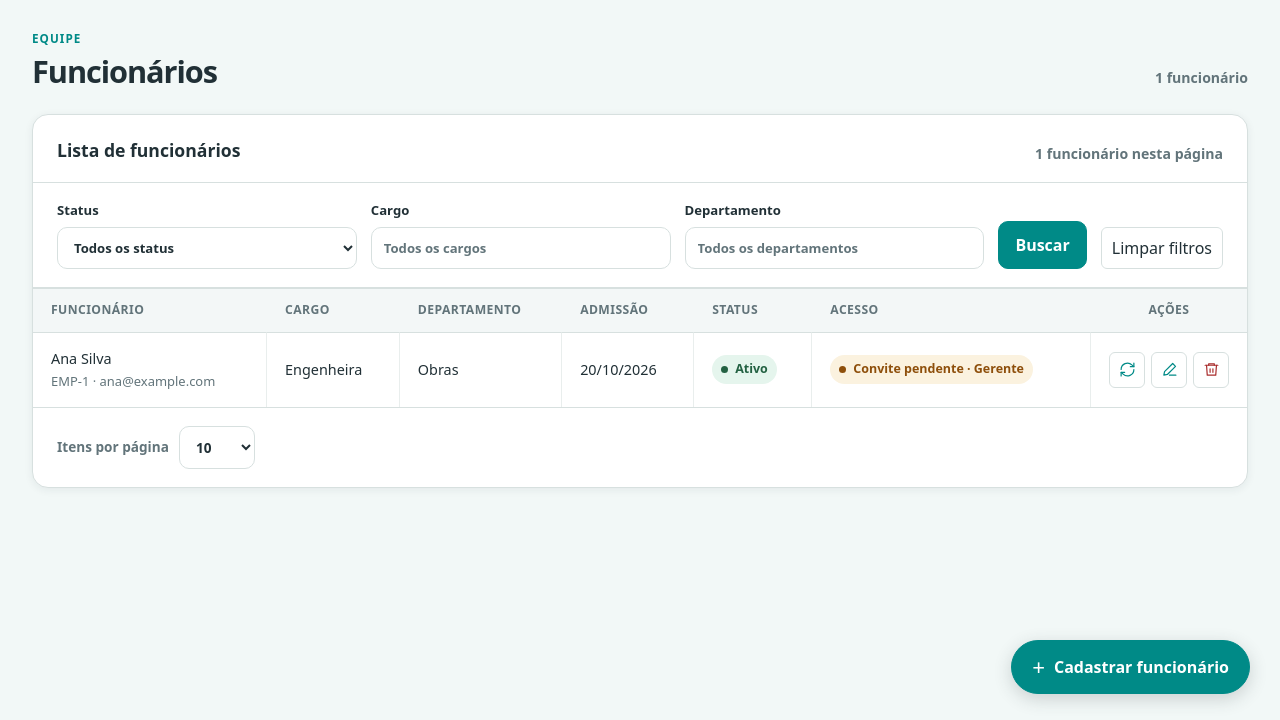
it: EmployeeListPage access › shows access with role and refreshes after resending a pending invitation
This screenshot has width=1280, height=720.
Expected: the text "Convite pendente · Gerente" is shown, [830,355,1033,384]
Click the button named "Reenviar convite para Ana Silva" at [1127, 370], box [1109,352,1145,388]
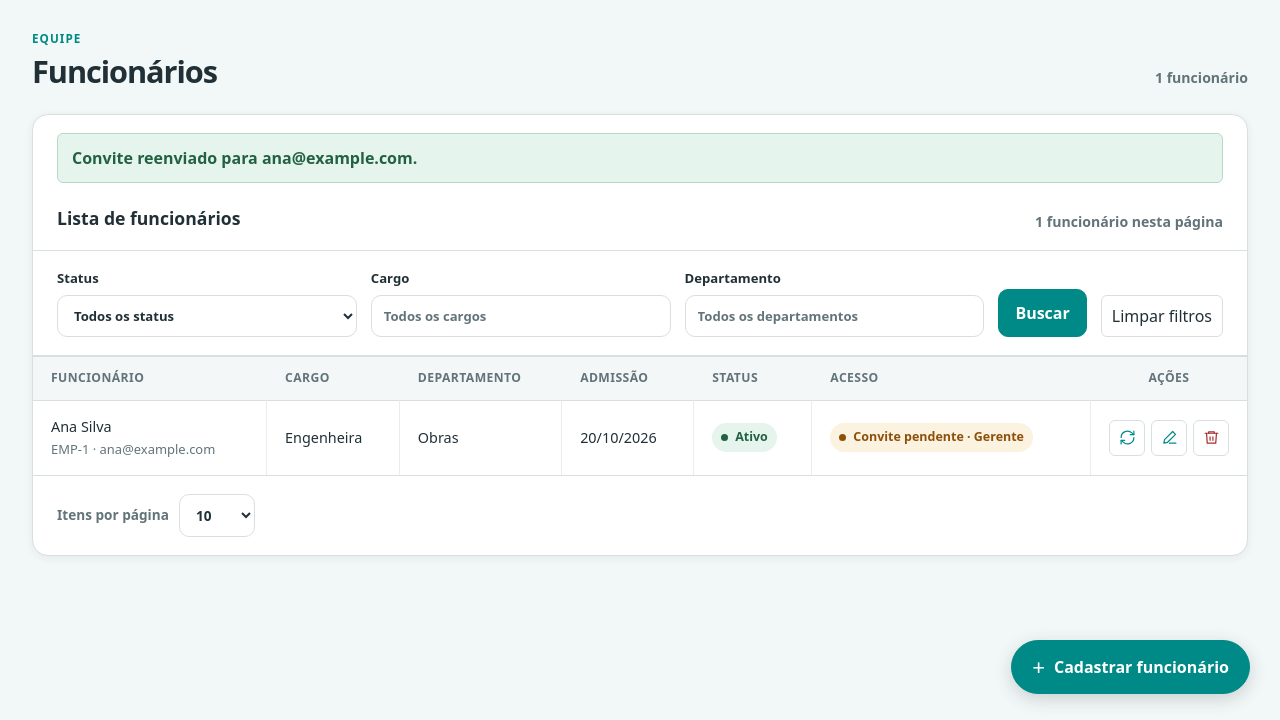
Expected: the message reads "Convite reenviado para ana@example.com.", [72,147,417,169]
